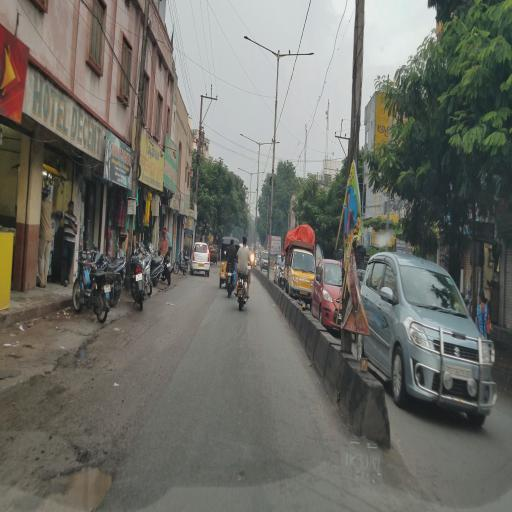street_light_0: (230, 28, 280, 64), (273, 39, 322, 73), (233, 127, 263, 153), (256, 127, 284, 153), (248, 165, 266, 185), (235, 158, 248, 184)
